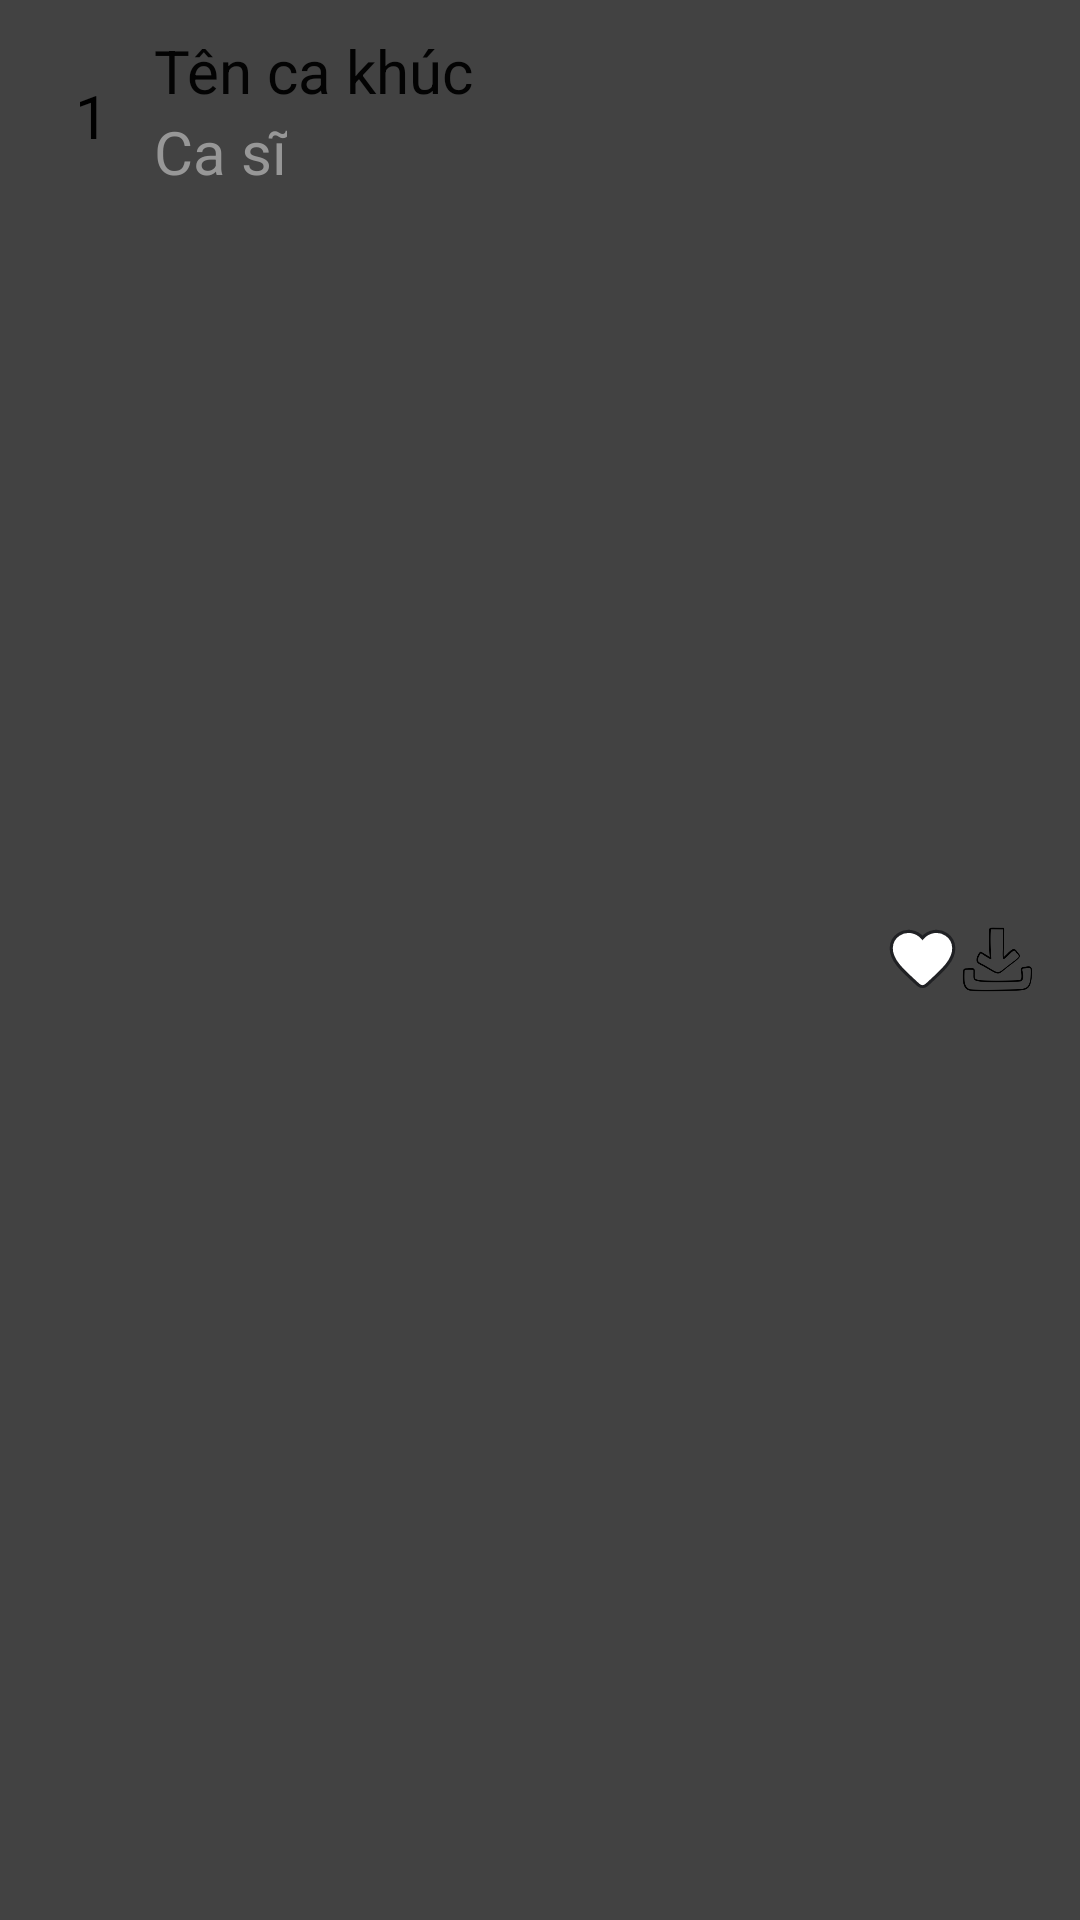

Icon click points for this 1080 × 1920 phone screenshot, format (x,y):
download: (997,959)
favorite: (922,959)
